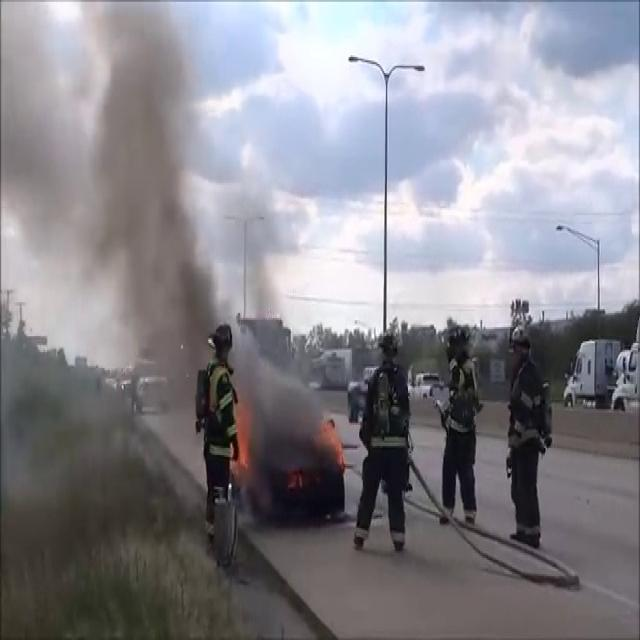Smoke: (2, 1, 230, 392)
